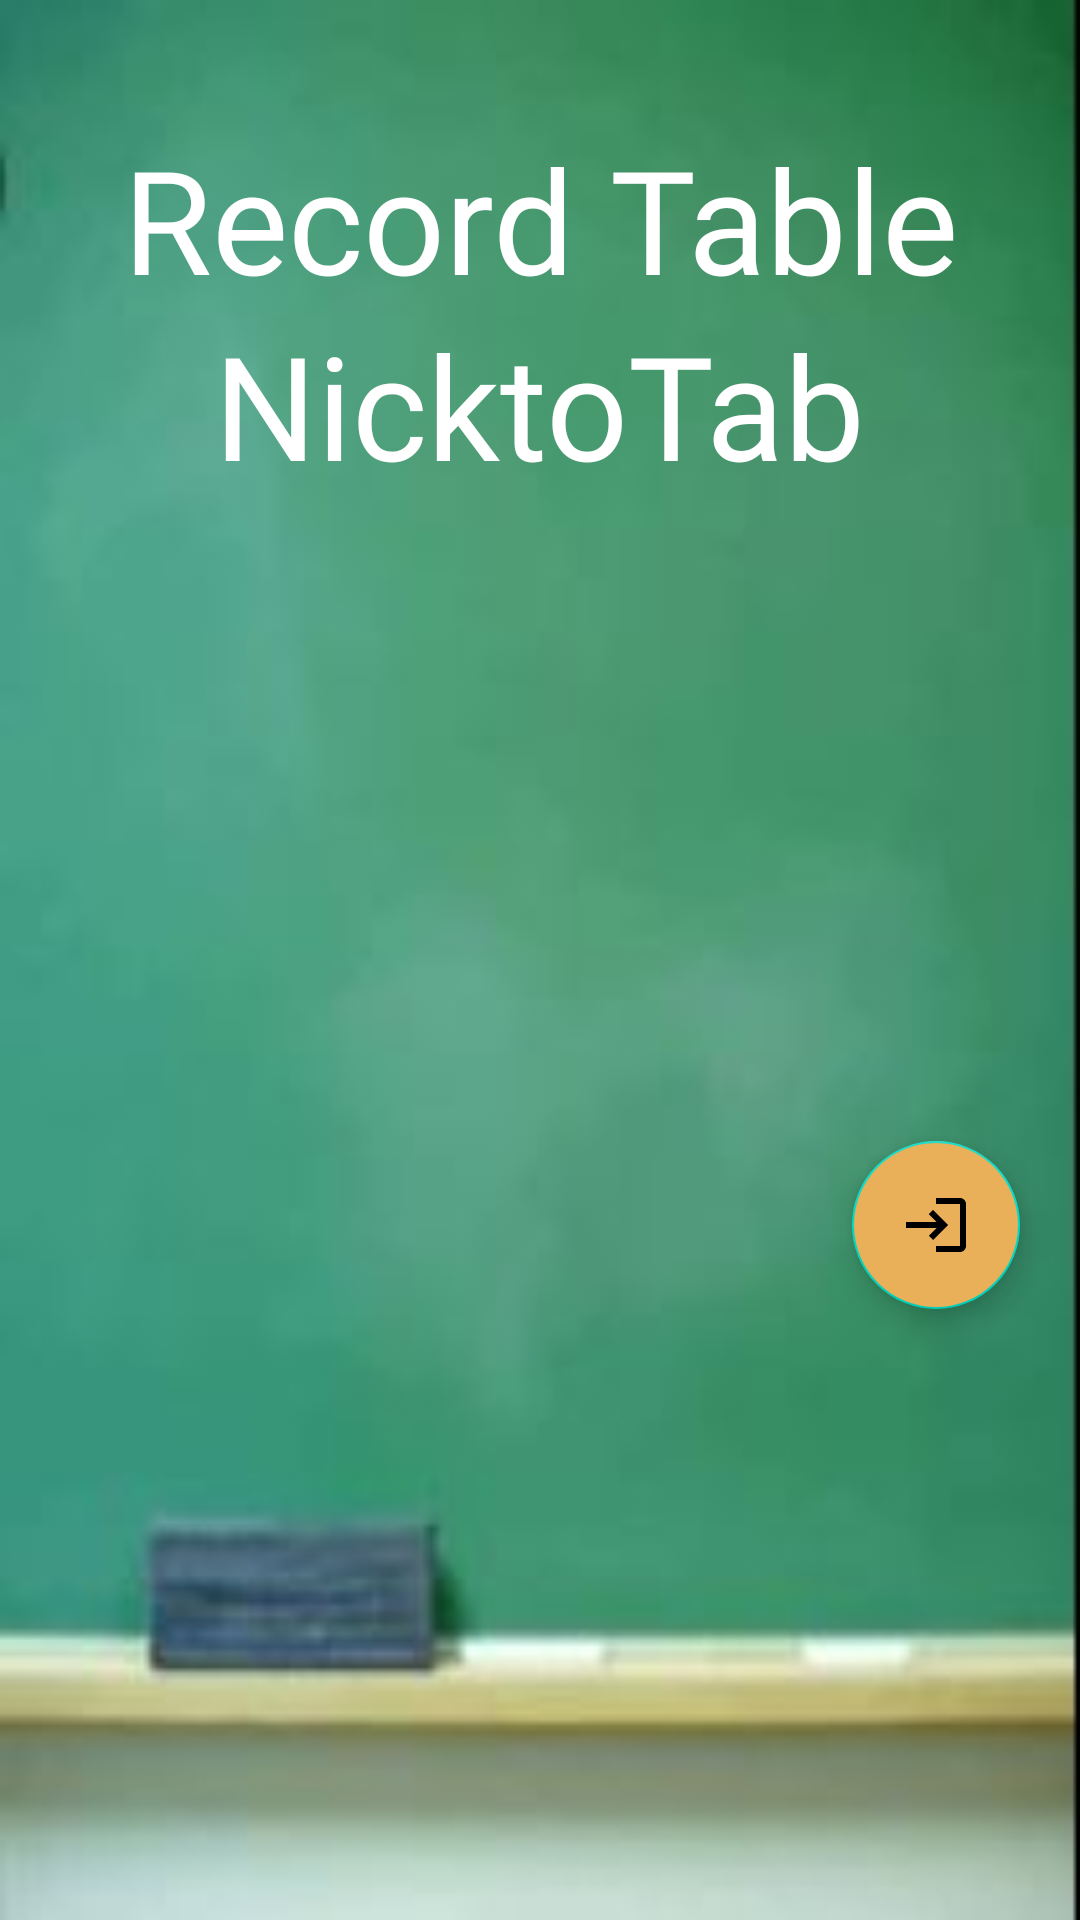

Screen size 1080w x 1920h. Icon name, then its center in pixels as point (x, y):
fab login: point (936, 1225)
